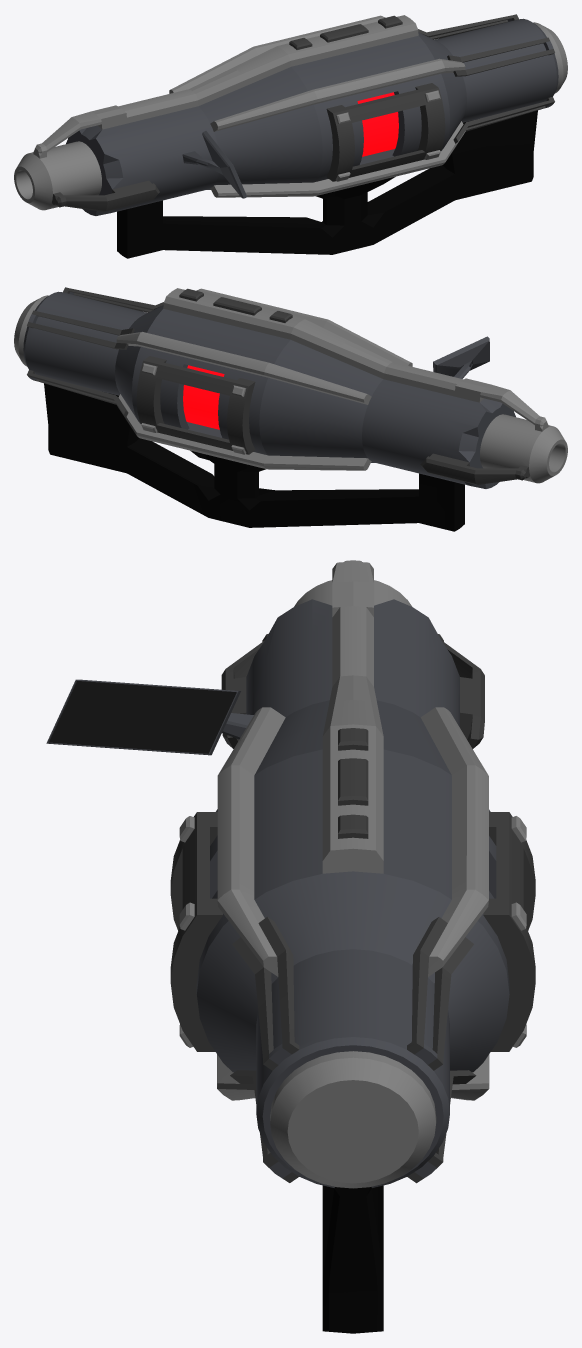
Rendered from laser drill.fbx.
3 views of the same model, one above another, from view 1: azimuth 30°, elevation 25°; view 2: azimuth 150°, elevation 25°; view 3: azimuth 270°, elevation 25° (orthographic). The views are drawn at different scales.
Parts seen in each view (by area): view 1: Cylinder; view 2: Cylinder; view 3: Cylinder.
Part boxes in pixels (x1,y1,x2,y2): Cylinder: (14,14,567,258); Cylinder: (14,287,567,531); Cylinder: (46,560,535,1333).
Size of the model in its own units: 21.79 by 8.5 by 8.76.
